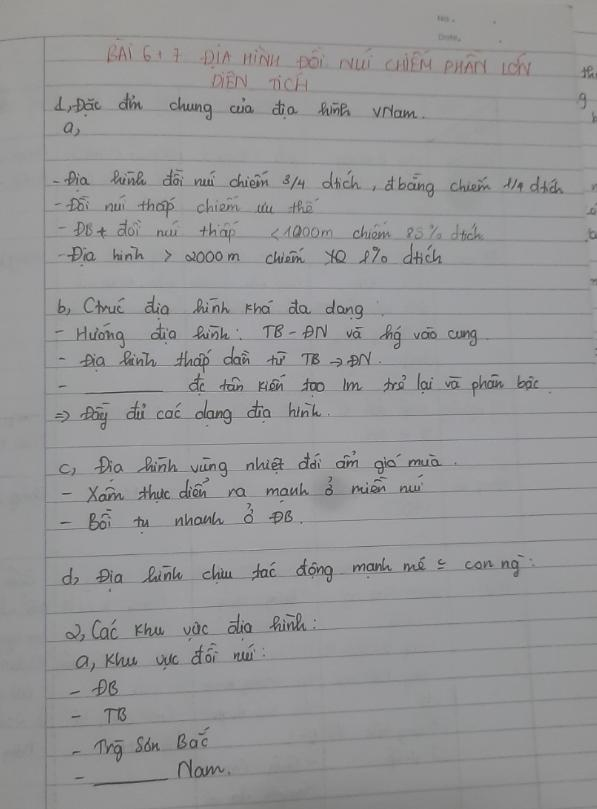text: (58, 551, 537, 598), (103, 34, 538, 78), (50, 164, 570, 197), (56, 217, 491, 248), (52, 318, 482, 348), (51, 89, 428, 122), (52, 449, 446, 480), (51, 240, 446, 269), (58, 476, 424, 507), (186, 370, 544, 400), (63, 609, 319, 647), (56, 347, 374, 377), (54, 292, 367, 322), (49, 400, 326, 432), (57, 500, 296, 533), (51, 192, 323, 218), (71, 640, 267, 676), (70, 723, 211, 766), (207, 70, 313, 96), (67, 706, 131, 731), (67, 674, 120, 701), (172, 758, 233, 781), (57, 120, 81, 141), (436, 32, 462, 42), (434, 11, 453, 24)
